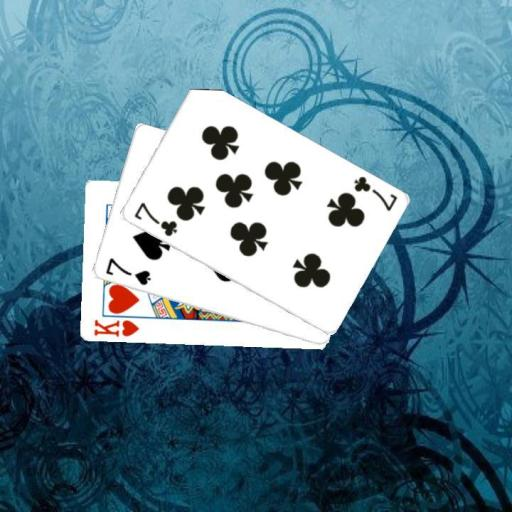7C: (350, 173, 399, 213), (130, 199, 179, 238)
7S: (102, 255, 152, 287)
KH: (90, 317, 140, 339)
